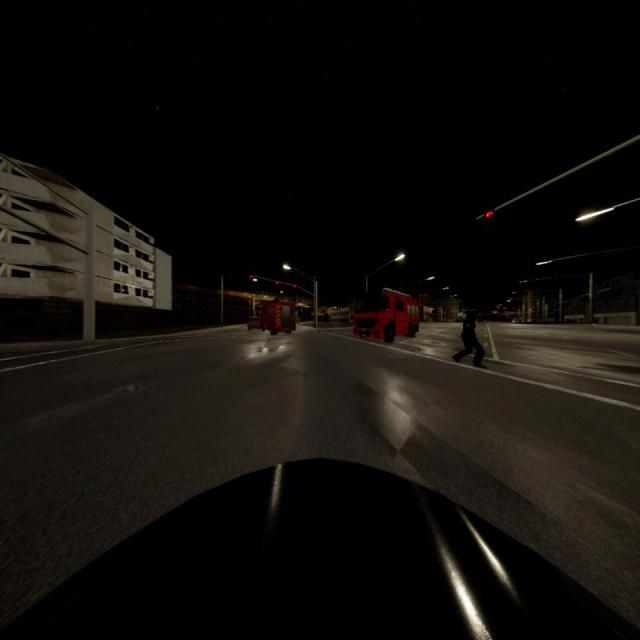Pedestrian: (453, 311, 486, 368)
Vehicle: (2, 465, 638, 640), (354, 289, 418, 342), (261, 302, 295, 334), (248, 316, 260, 331)
traffic_light: (486, 212, 492, 217), (293, 284, 296, 288), (250, 275, 253, 278), (276, 281, 278, 284)
